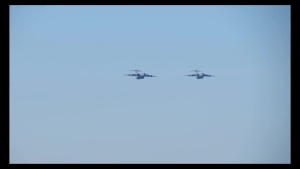flight: (122, 68, 157, 81), (182, 69, 215, 80)
